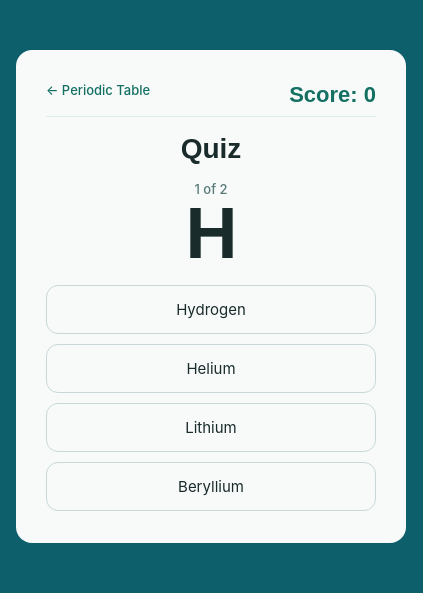
Test case: Quiz › shows EndScreen after the last question
Click the button "Hydrogen". click: x=211, y=309
box: top-left (46, 284), bottom-right (376, 334)
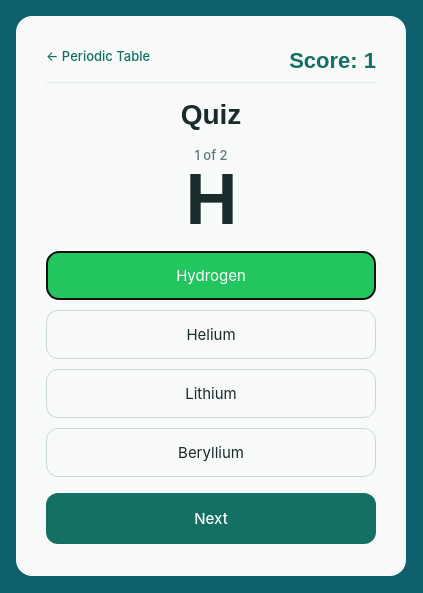
Click the button "Next". click: x=211, y=518
box: top-left (46, 493), bottom-right (376, 544)
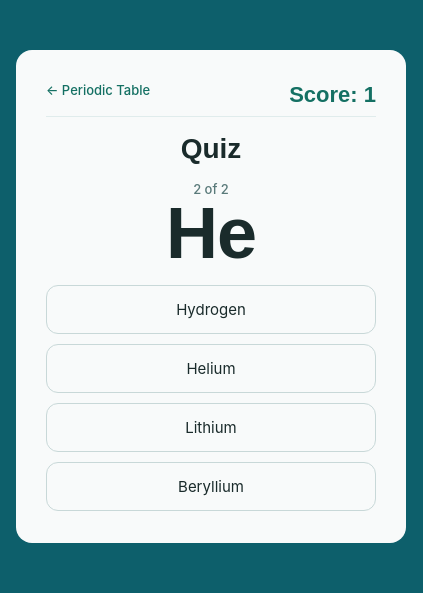
Click the button "Helium". click: x=211, y=368
box: top-left (46, 344), bottom-right (376, 392)
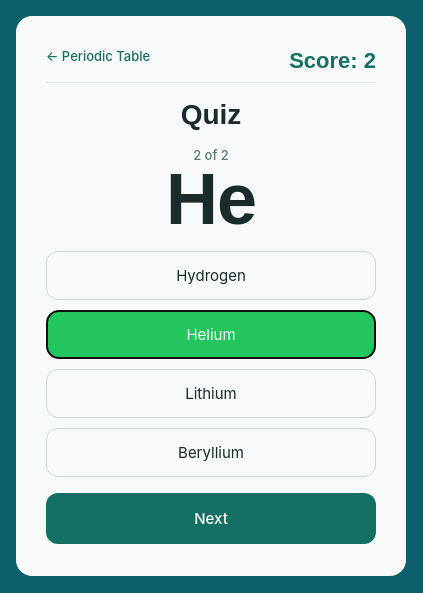
Click the button "Next". click: x=211, y=518
box: top-left (46, 493), bottom-right (376, 544)
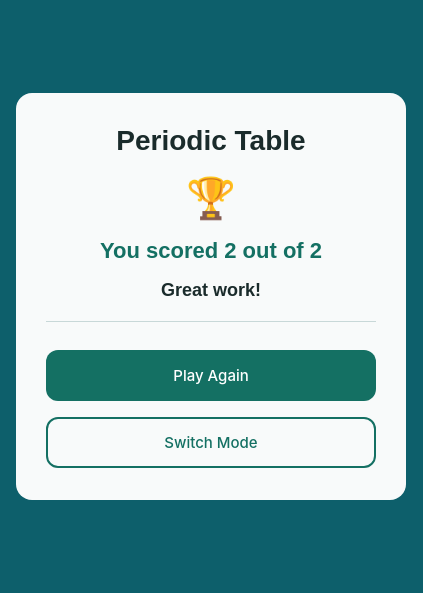
Now the button "Play Again" is shown, box top-left (46, 350), bottom-right (376, 400)
